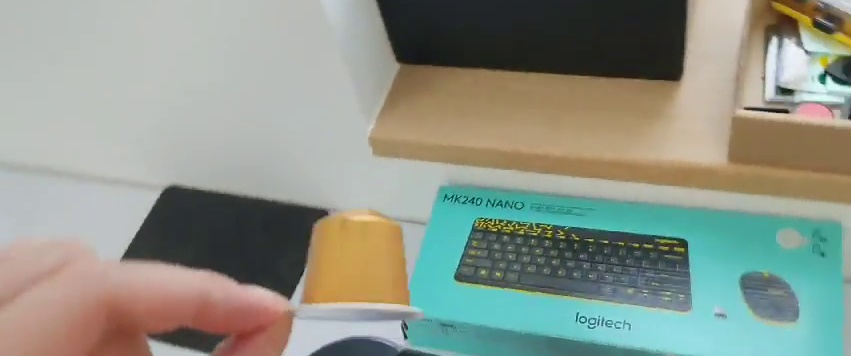capsule_8: (292, 207, 424, 327)
